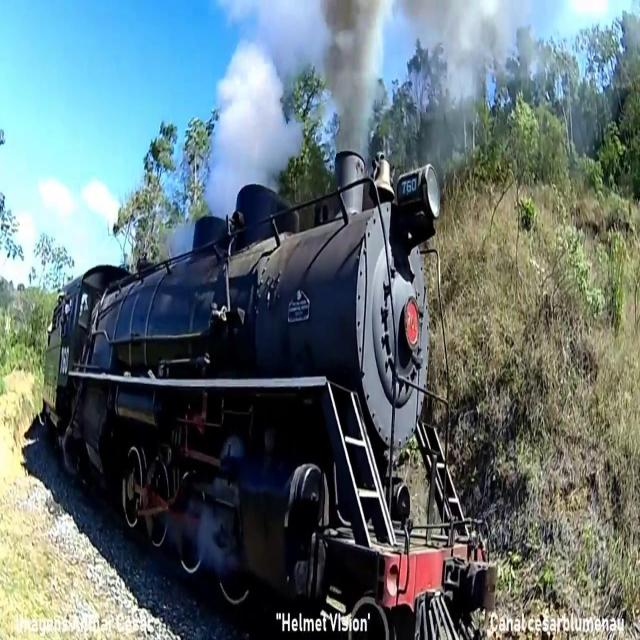Smoke: (412, 9, 538, 134), (307, 5, 397, 169)
